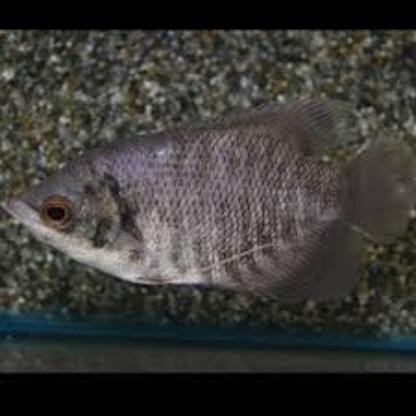gurame: (15, 107, 396, 298)
